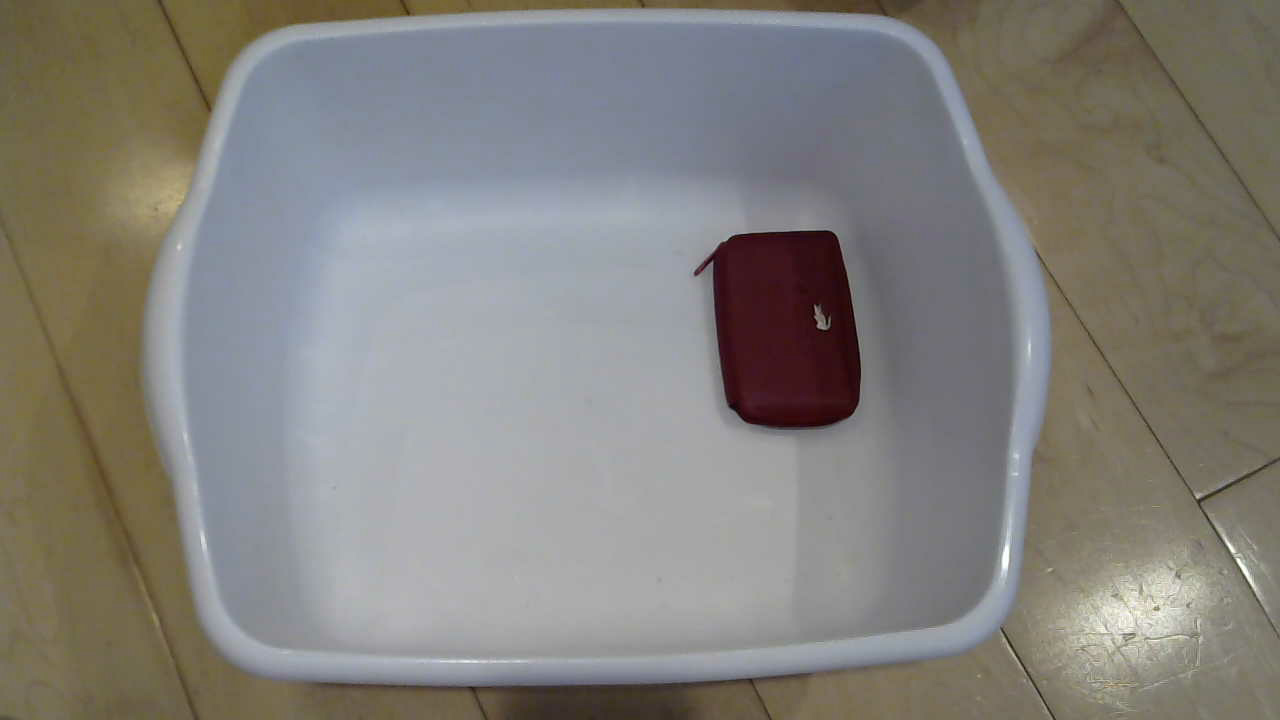wallet: (708, 220, 896, 451)
